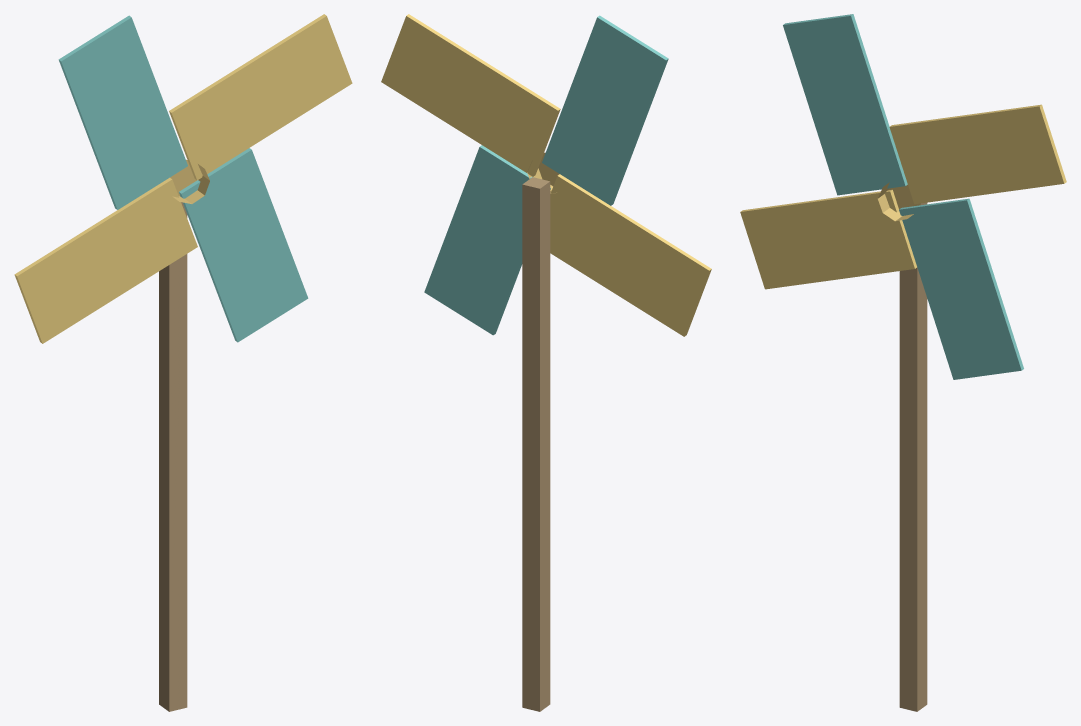
3 renders of one model, left to right at view 1: azimuth 30°, elevation 25°; view 2: azimuth 150°, elevation 25°; view 3: azimuth 330°, elevation 25°, orthographic. The views are drawn at different scales.
Size of the model in its own units: 0.2233 by 0.4516 by 0.028.
